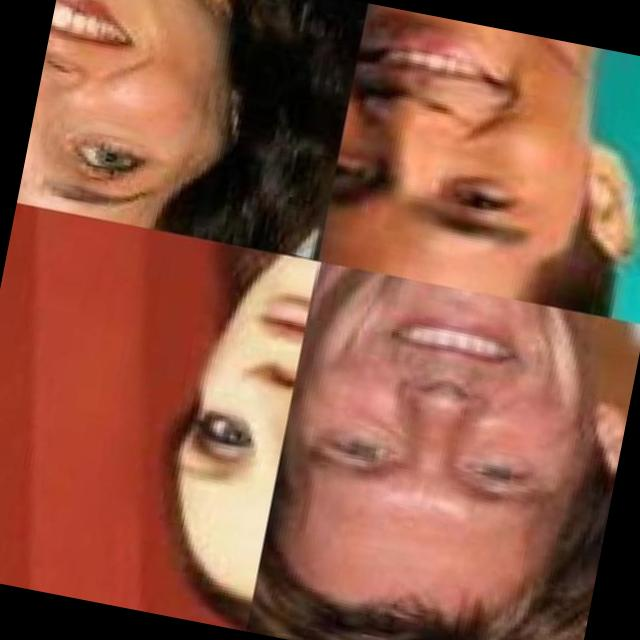bareface: (246, 273, 617, 640)
